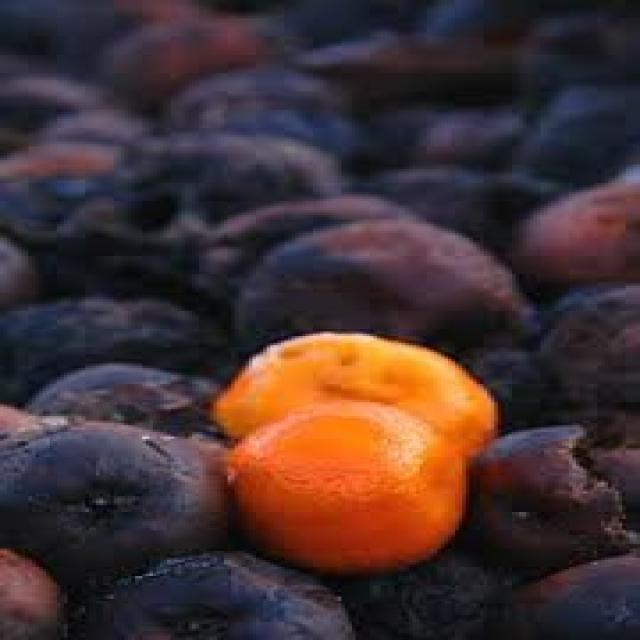organic waste: (224, 217, 523, 361), (221, 398, 455, 574), (0, 414, 224, 585), (206, 327, 491, 450), (462, 421, 636, 574), (71, 544, 345, 638), (0, 292, 220, 406), (185, 192, 409, 297), (85, 0, 280, 98), (345, 162, 565, 247), (42, 203, 228, 302), (164, 64, 359, 153), (331, 548, 519, 638), (508, 172, 636, 290), (530, 283, 636, 423), (316, 34, 522, 105), (32, 359, 220, 434), (121, 137, 334, 199), (0, 139, 128, 240), (498, 89, 636, 181), (498, 548, 636, 638), (466, 347, 590, 430), (505, 11, 636, 87), (0, 546, 82, 638), (0, 62, 103, 128), (338, 92, 423, 169), (405, 105, 519, 162), (576, 444, 636, 530), (0, 0, 89, 57), (288, 0, 420, 32), (28, 105, 146, 137), (419, 0, 515, 34), (0, 238, 39, 302)
